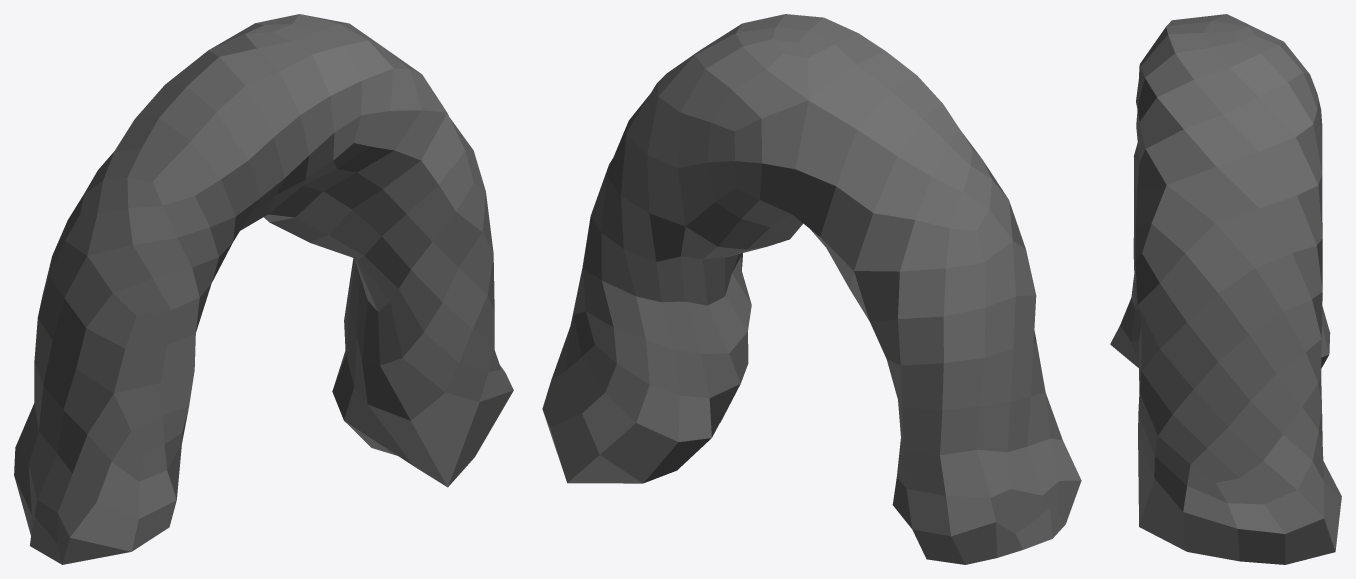
File: arch1.dae
3 renders of one model, left to right at view 1: azimuth 30°, elevation 25°; view 2: azimuth 150°, elevation 25°; view 3: azimuth 270°, elevation 25°, orthographic. The views are drawn at different scales.
Parts seen in each view (by area): view 1: arch1; view 2: arch1; view 3: arch1.
Boxes of the visible parts, bbox=[...] form: arch1: bbox=[14, 14, 513, 564]; arch1: bbox=[542, 14, 1081, 564]; arch1: bbox=[1110, 14, 1341, 564].
Bounding box in the file's own units: 8.95 × 3.83 × 7.96.
Materials: 1 (1 with a texture image).
